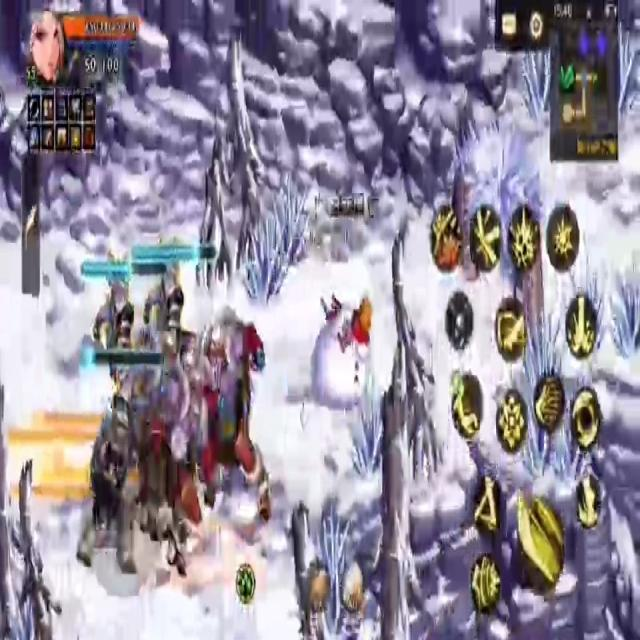player: (299, 288, 375, 419)
